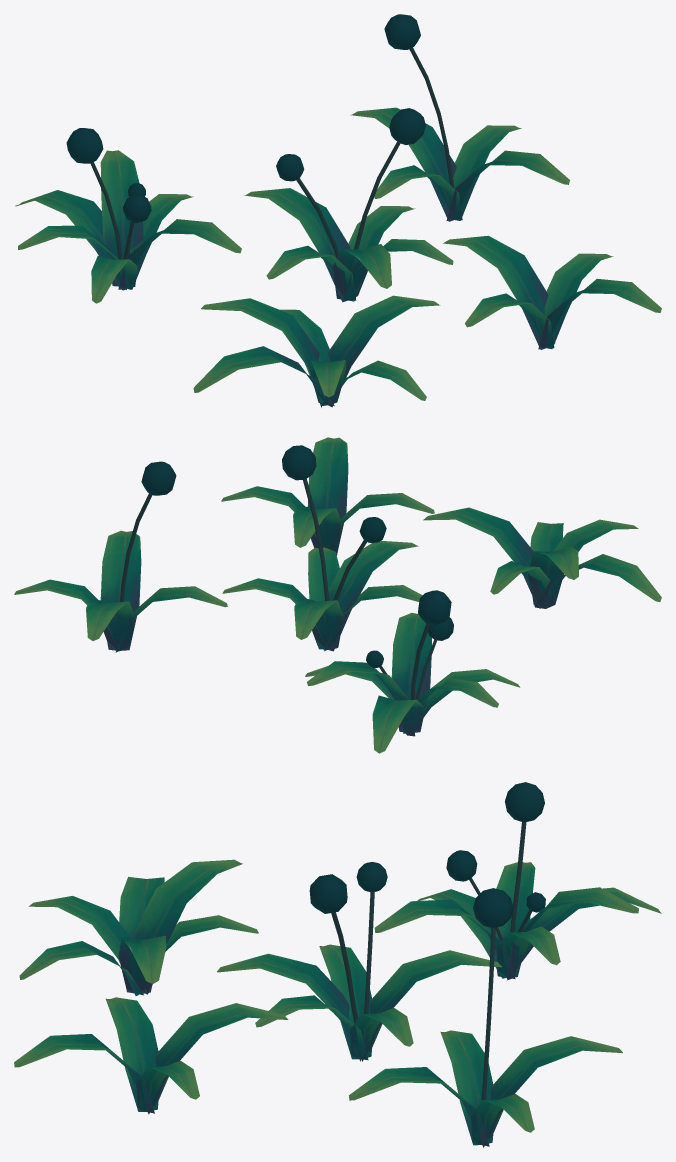
The model's file is glowing_plants_parts_quest.glb.
3 views of the same model, one above another, from view 1: azimuth 30°, elevation 25°; view 2: azimuth 150°, elevation 25°; view 3: azimuth 270°, elevation 25° (orthographic). The views are drawn at different scales.
Parts seen in each view (by area): view 1: Flow1, Flow3, Leafs1, Flow2, Leafs2; view 2: Flow1, Flow3, Leafs1, Flow2, Leafs2; view 3: Flow3, Flow1, Leafs1, Flow2, Leafs2.
Boxes of the visible parts, x1,y1,x2,y2 form: Flow1: (15, 128, 241, 303); Flow3: (244, 108, 453, 302); Leafs1: (193, 295, 440, 407); Flow2: (350, 14, 569, 221); Leafs2: (442, 235, 661, 349); Flow1: (305, 590, 520, 753); Flow3: (222, 445, 422, 651); Leafs1: (423, 507, 661, 608); Flow2: (14, 461, 227, 652); Leafs2: (221, 437, 434, 555); Flow3: (217, 862, 501, 1061); Flow1: (374, 782, 661, 980); Leafs1: (19, 859, 258, 995); Flow2: (349, 888, 622, 1147); Leafs2: (14, 997, 288, 1114).
Bounding box in the file's own units: 0.3114 × 0.1263 × 0.3194.
Materials: 1 (1 with a texture image).
